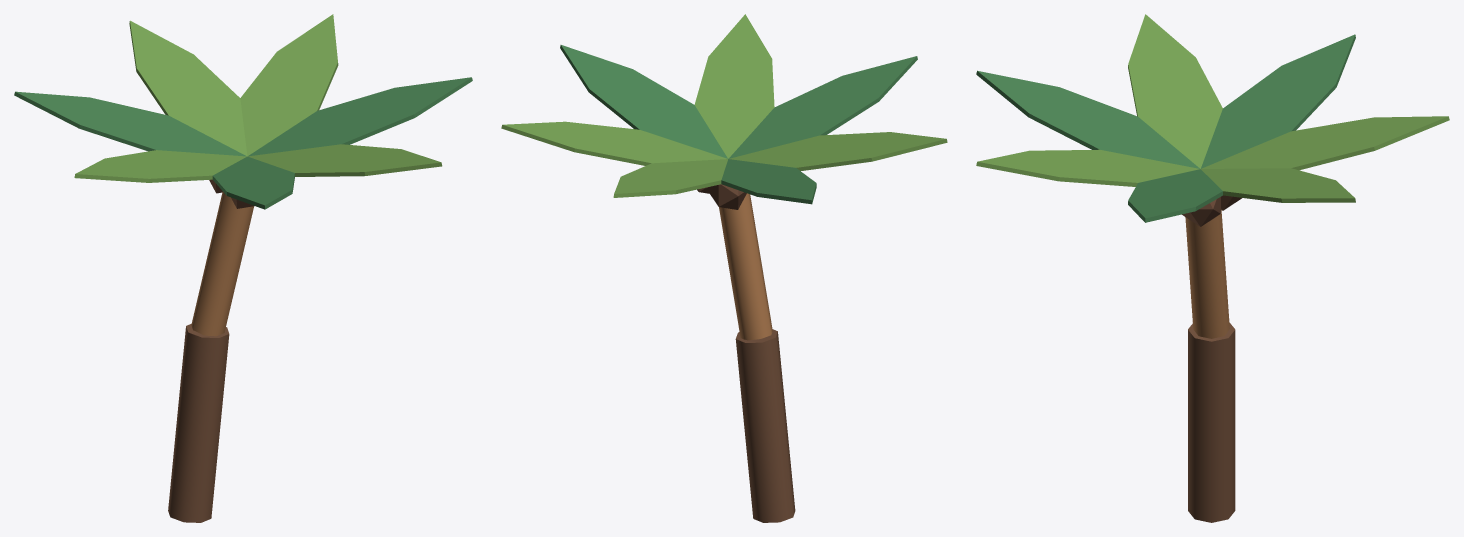
Rendered from island-palm.glb.
3 renders of one model, left to right at view 1: azimuth 30°, elevation 25°; view 2: azimuth 150°, elevation 25°; view 3: azimuth 270°, elevation 25°, orthographic. The views are drawn at different scales.
Parts seen in each view (by area): view 1: leaf (×7), lower-trunk, upper-trunk; view 2: leaf (×7), lower-trunk, upper-trunk, coconut-2; view 3: leaf (×7), lower-trunk, upper-trunk, coconut-0.
Part boxes in pixels (x1,y1,x2,y2): leaf (×7): (14, 14, 472, 209); lower-trunk: (168, 324, 229, 522); upper-trunk: (191, 191, 253, 336); leaf (×7): (501, 14, 947, 204); lower-trunk: (735, 329, 795, 522); upper-trunk: (719, 193, 772, 340); coconut-2: (706, 184, 746, 209); leaf (×7): (976, 14, 1449, 222); lower-trunk: (1188, 322, 1235, 522); upper-trunk: (1185, 210, 1229, 338); coconut-0: (1182, 197, 1220, 226).
Bounding box in the file's own units: 2.66 × 2.56 × 2.59.
